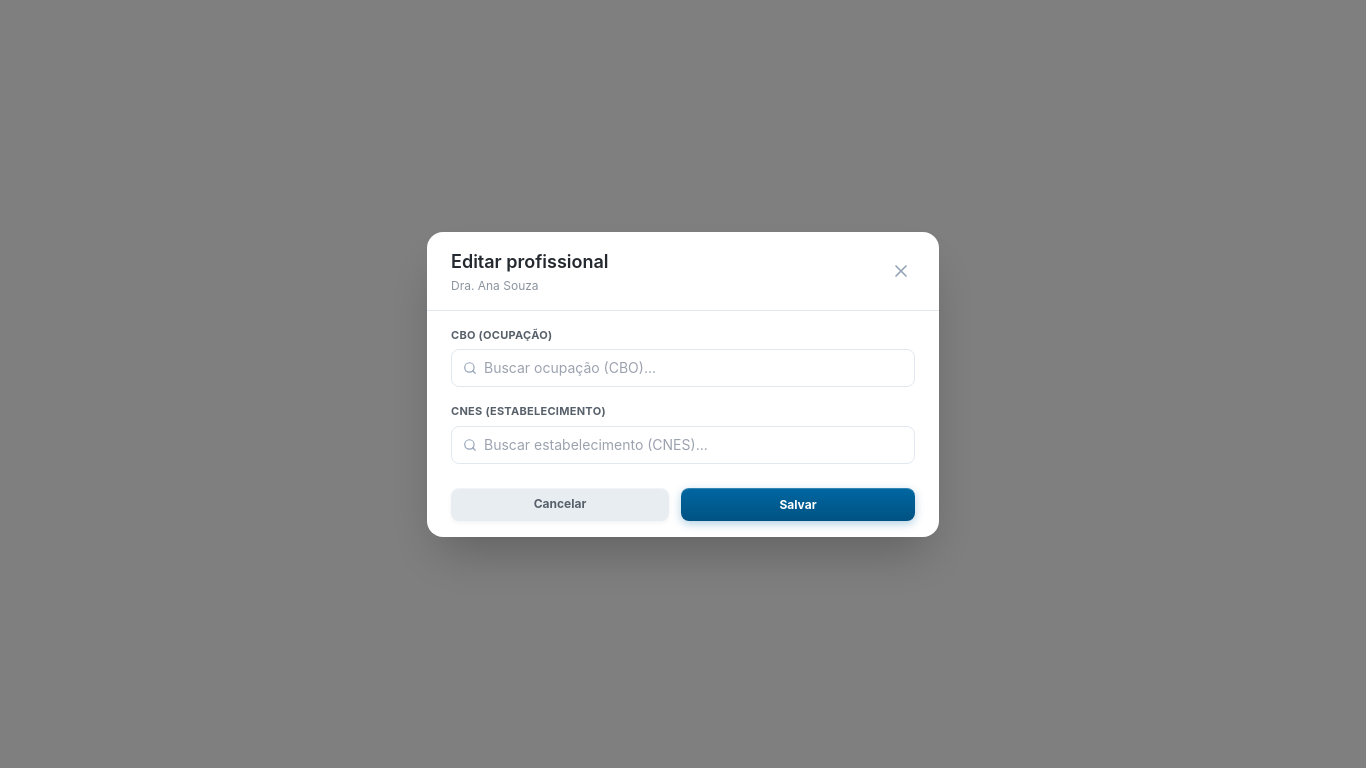
Test: ProfessionalEditModal › search populates CBO options from the terminology endpoint
Type "medico" into the dropdown labelled "CBO" at (683, 368), box [451,349,915,387]
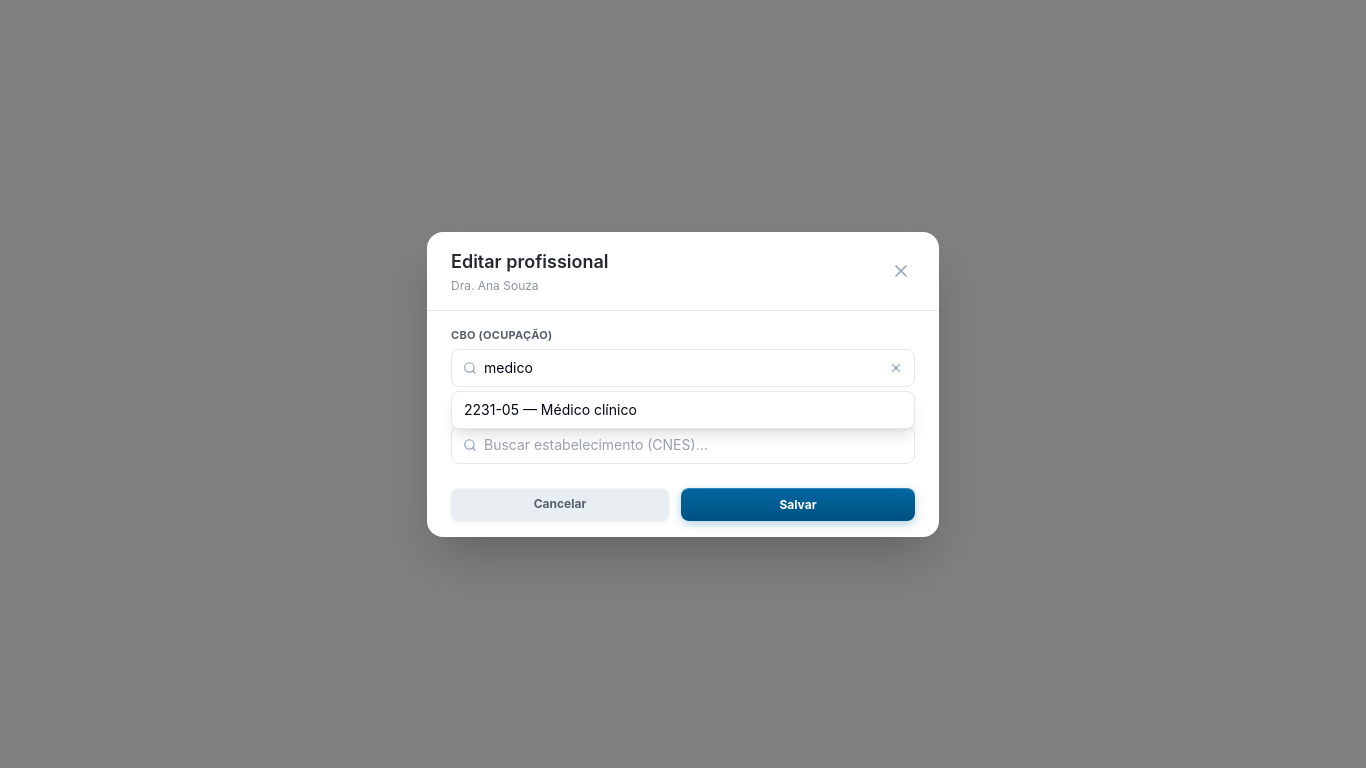
Expected: the option "2231-05 — Médico clínico" is shown, [452,392,914,428]
